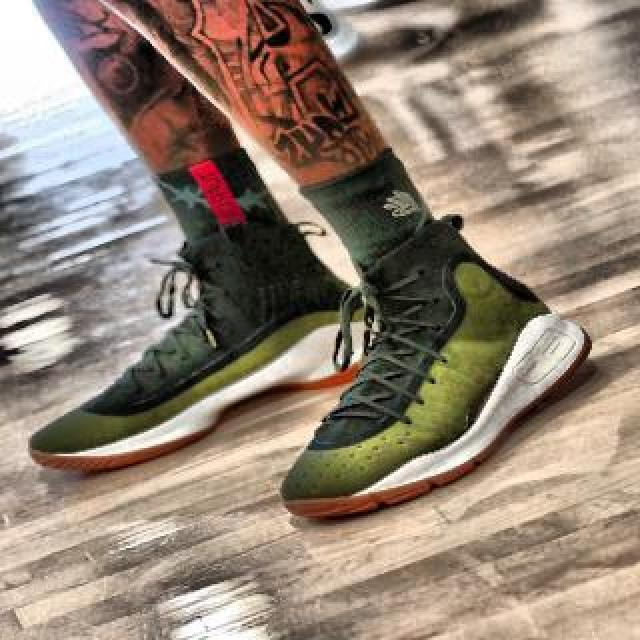shoe: (281, 230, 587, 514), (32, 230, 374, 468)
